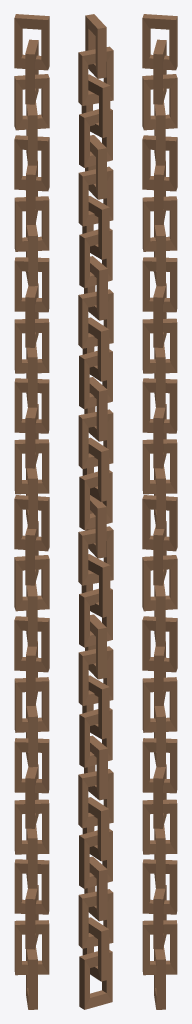
Rendered from Chain_01_Base.fbx.
The picture shows the model from 3 angles, left to right: view 1: azimuth 90°, elevation 25°; view 2: azimuth 210°, elevation 25°; view 3: azimuth 270°, elevation 25°; orthographic projection.
Visible parts, largest first — view 1: Chain_01_Base; view 2: Chain_01_Base; view 3: Chain_01_Base.
Boxes of the visible parts, x1=… form: Chain_01_Base: x1=14, y1=14, x2=49, y2=1009; Chain_01_Base: x1=78, y1=14, x2=113, y2=1009; Chain_01_Base: x1=142, y1=14, x2=177, y2=1009.
Bounding box in the file's own units: 18.51 × 575 × 18.59.
